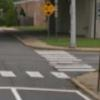crosswalks: (34, 49, 98, 73)
